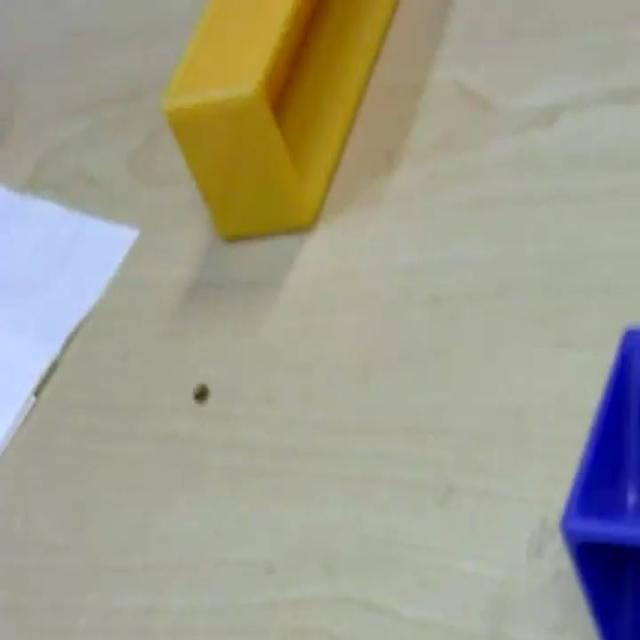blue_block: (558, 323, 639, 636)
yellow_block: (159, 0, 399, 241)
